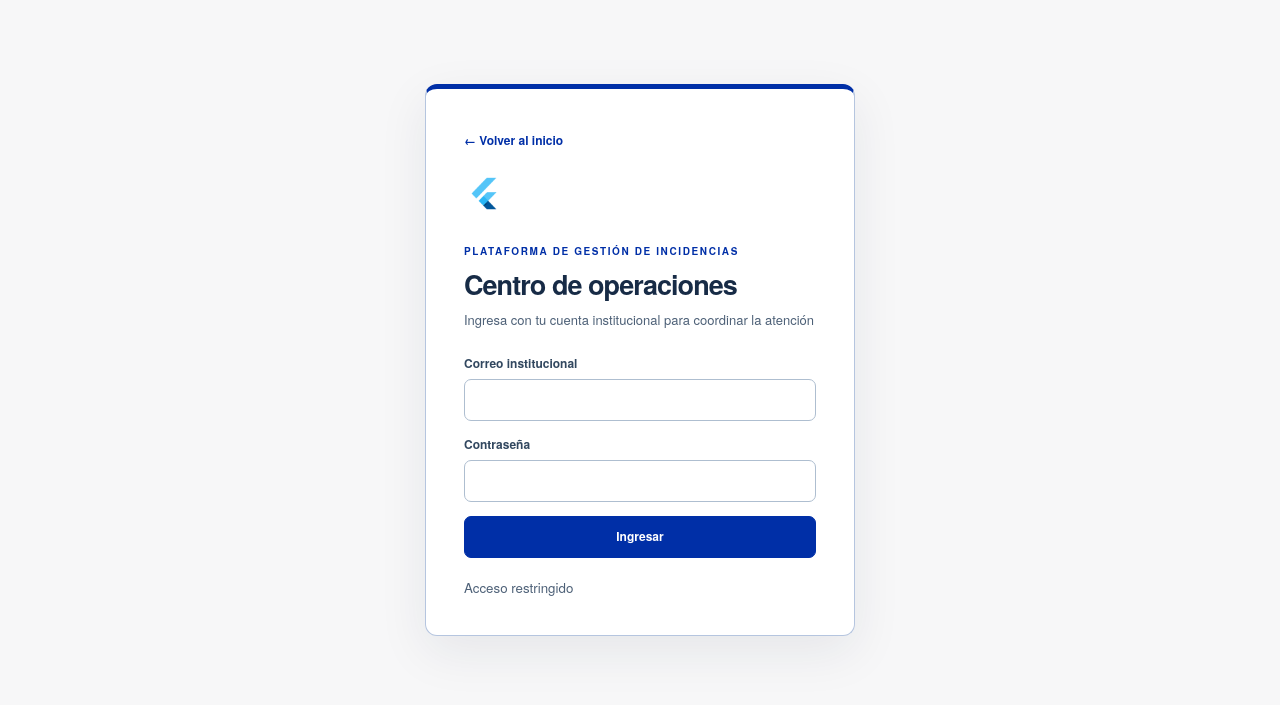
Test: muestra el ámbito de Operador sin membresías
The width and height of the screenshot is (1280, 705).
Type "operator@example.invalid" into the field labelled "Correo institucional" at (640, 400), box [464,379,816,421]
Type "test-password-only" into the password field labelled "Contraseña" at (640, 481), box [464,460,816,502]
Click the button "Ingresar" at (640, 537), box [464,516,816,558]
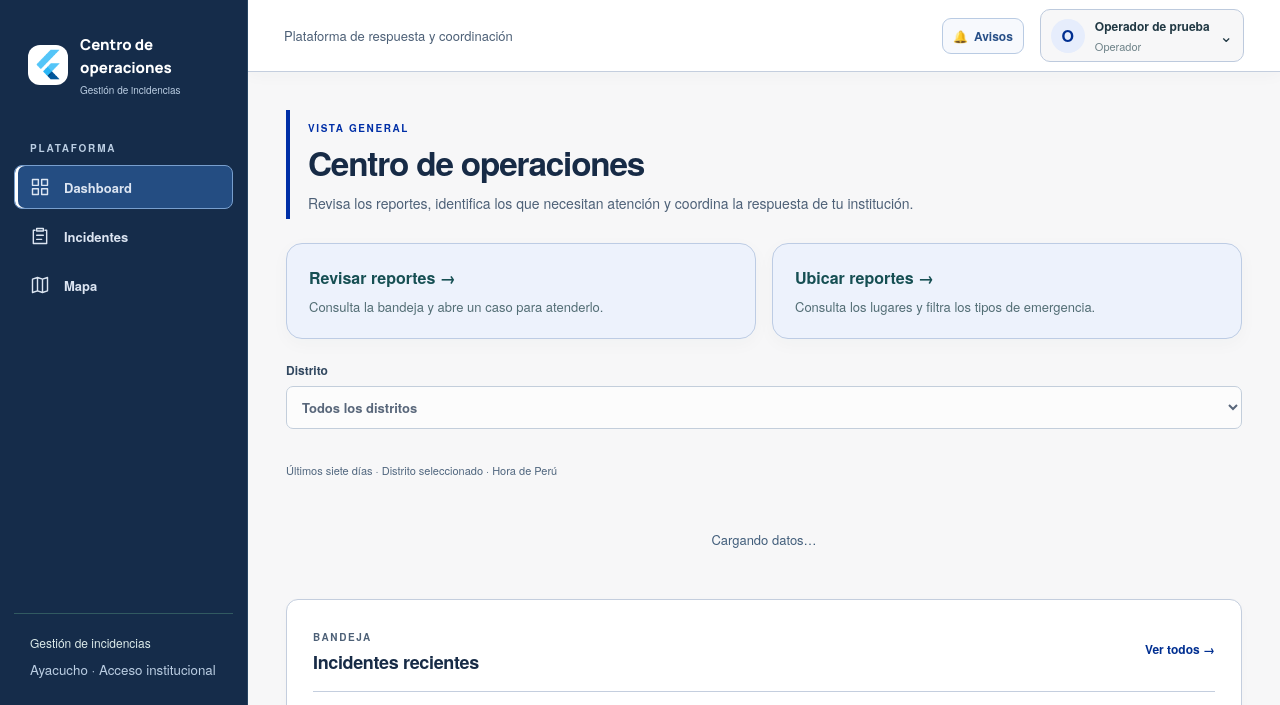
Click the button with aria-label "Cuenta de" at (1142, 36), box [1040,9,1244,62]
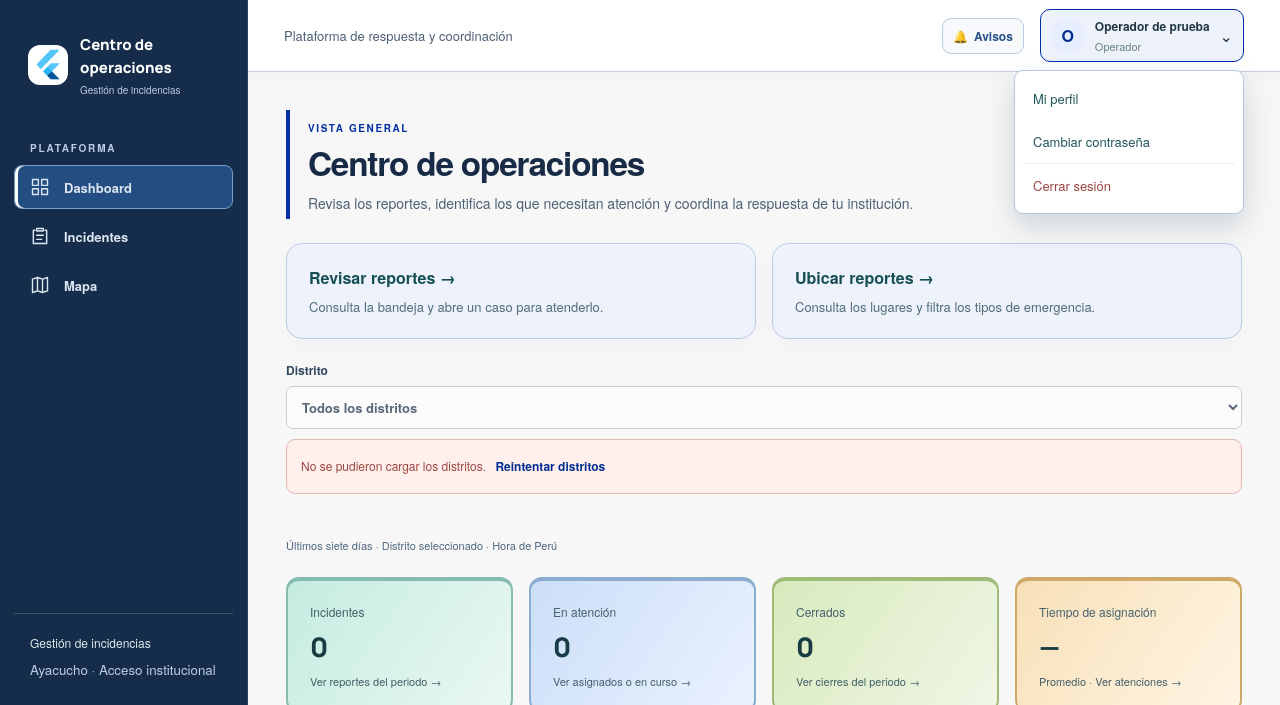
Click the link "Mi perfil" at (1056, 98), box [1033,89,1078,108]
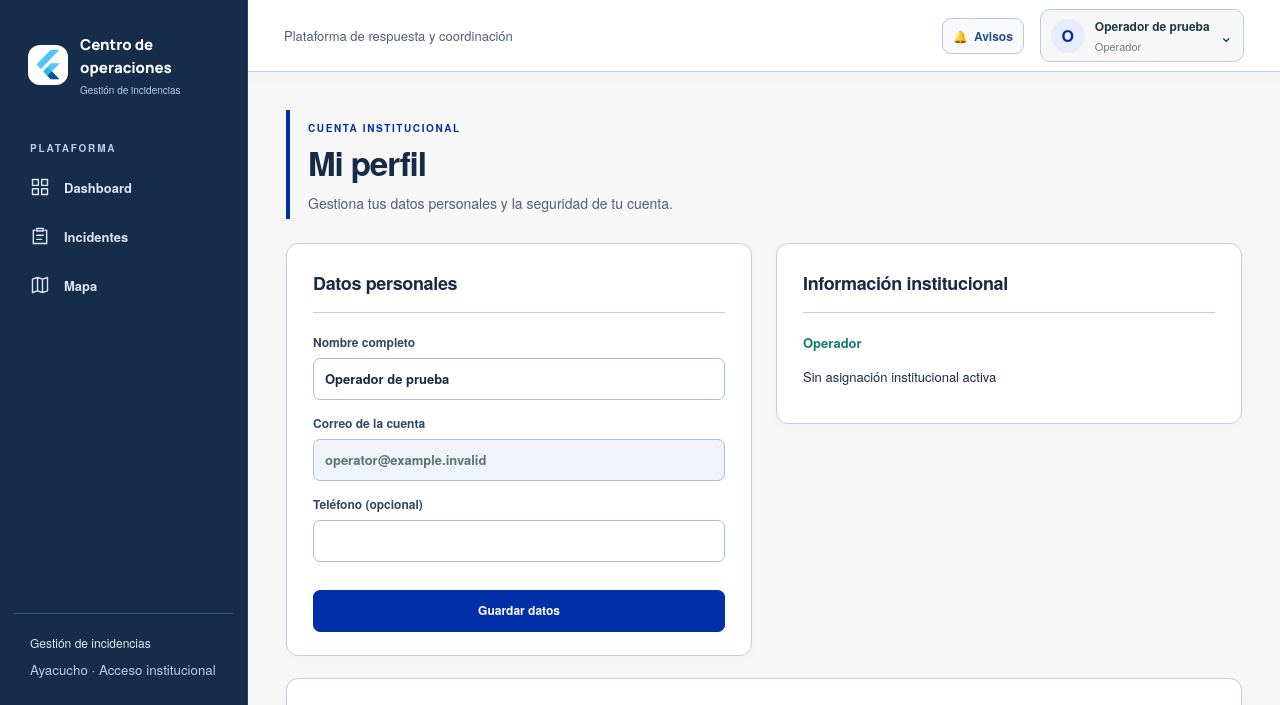
Result: the field labelled "Nombre completo" is shown at [313,358,725,400]
Result: the text "Sin asignación institucional activa" is shown at [803,367,996,386]
Click the button with aria-label "Cuenta de" at (1142, 36), box [1040,9,1244,62]
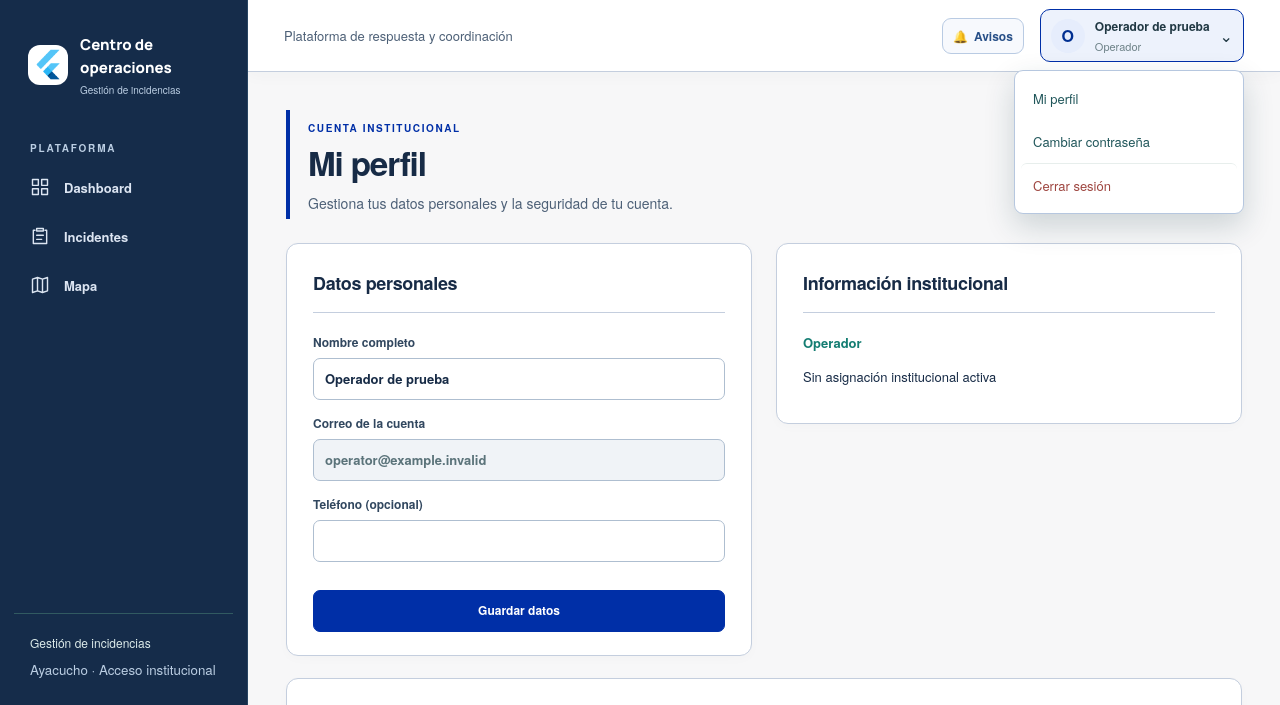
Click the button "Cerrar sesión" at (1129, 185), box [1021,163,1237,207]
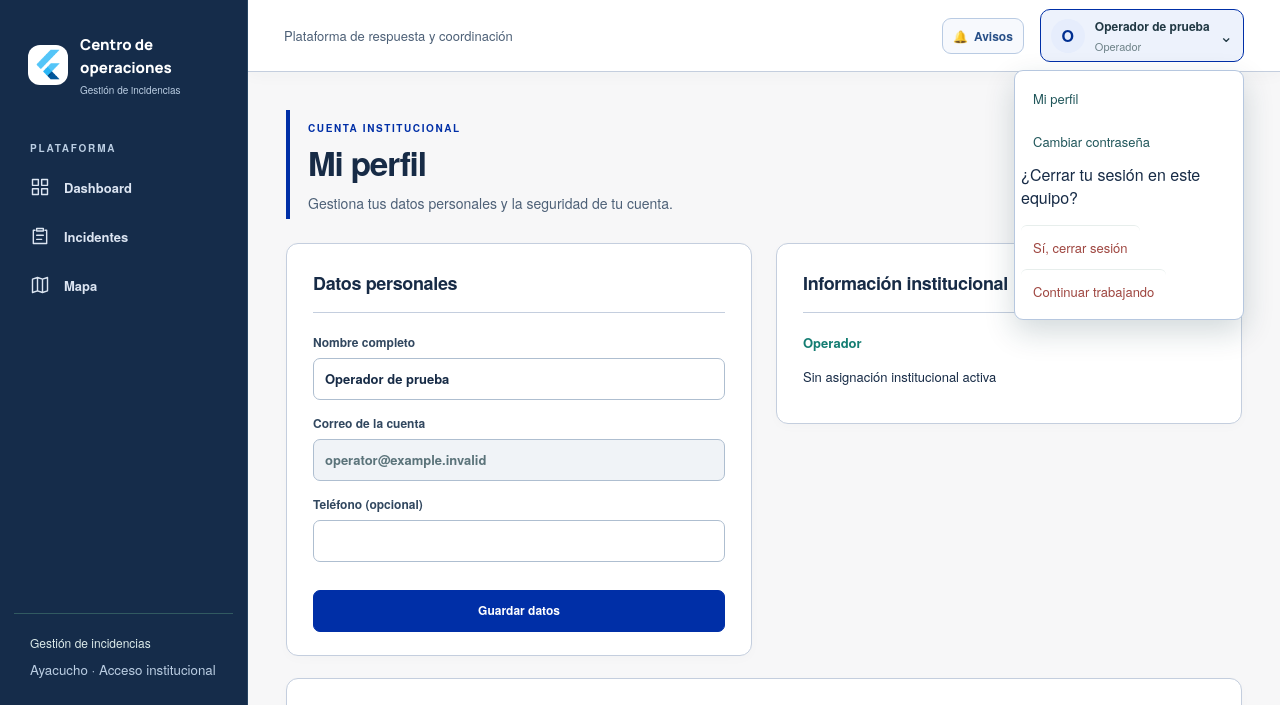
Click the button "Sí, cerrar sesión" at (1080, 247), box [1021,225,1140,269]
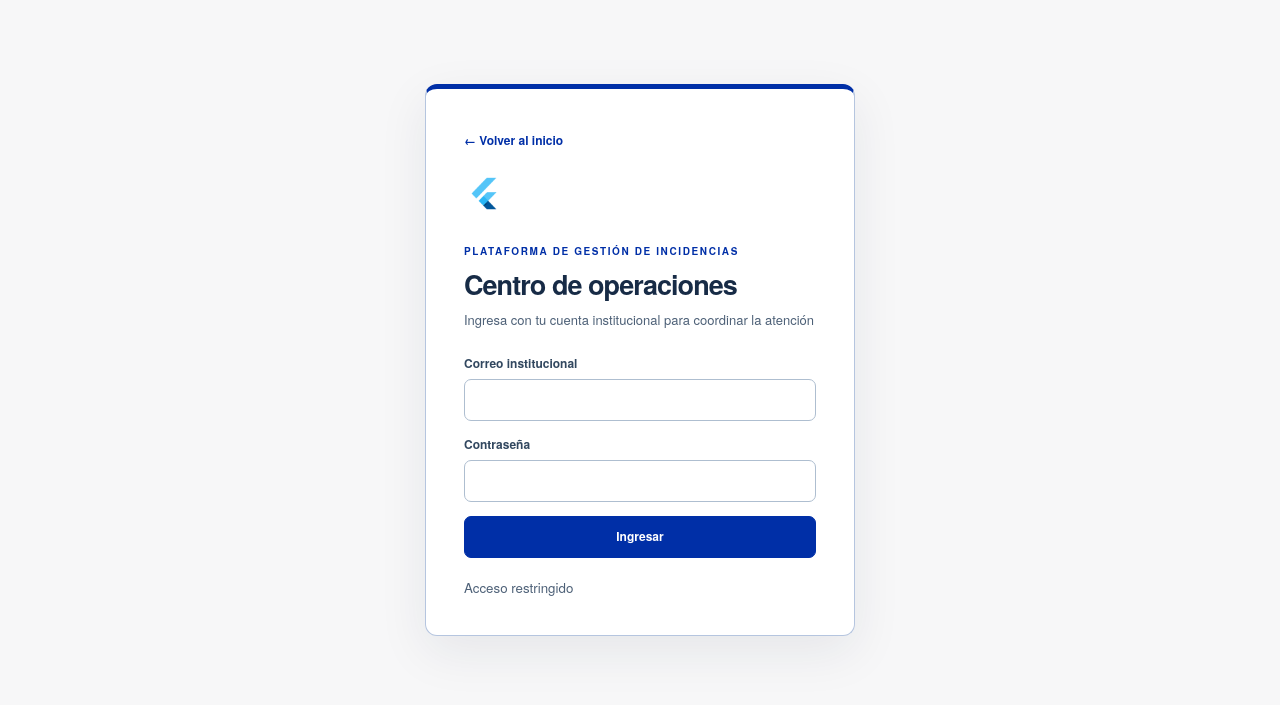
Result: the button "Ingresar" is shown at [464,516,816,558]
